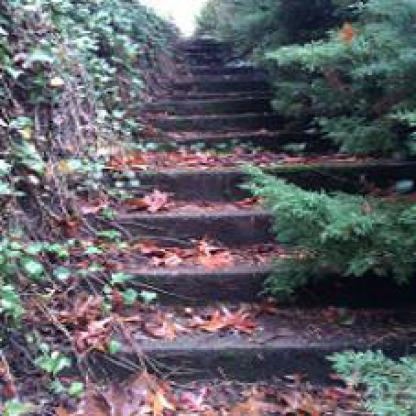stair_up: (59, 155, 385, 370)
